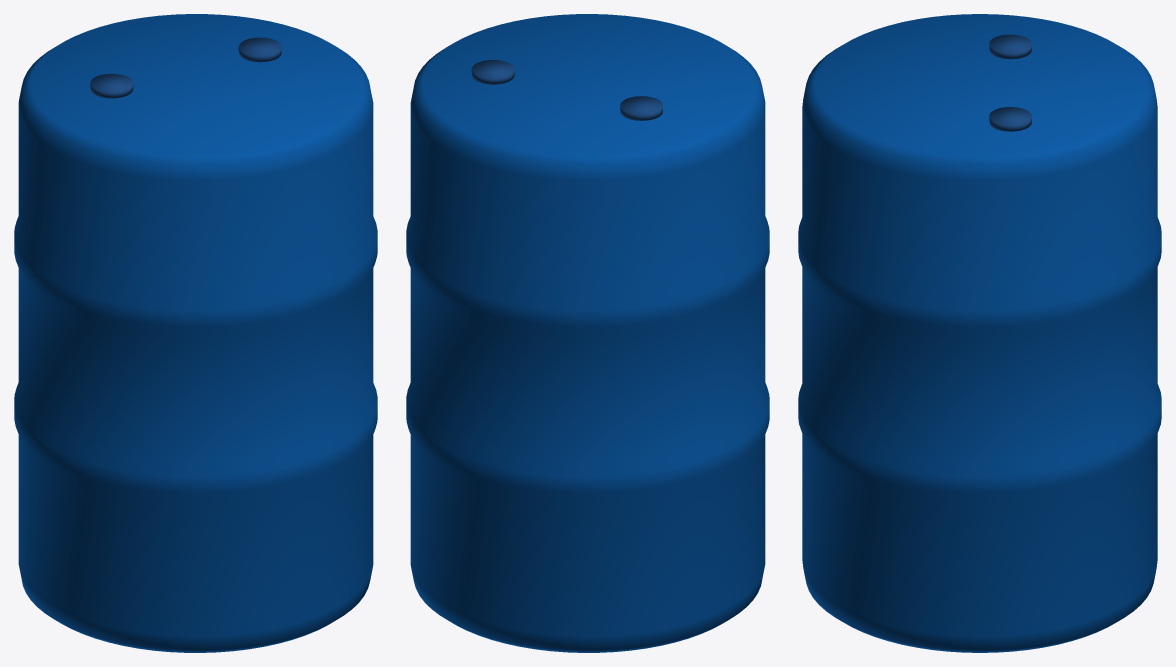
Rendered from obj_barrel.glb.
The picture shows the model from 3 angles, left to right: view 1: azimuth 30°, elevation 25°; view 2: azimuth 150°, elevation 25°; view 3: azimuth 270°, elevation 25°; orthographic projection.
Parts seen in each view (by area): view 1: barrel_body, bung, bung.001; view 2: barrel_body, bung.001, bung; view 3: barrel_body, bung, bung.001.
Boxes of the visible parts, bbox=[...] form: barrel_body: bbox=[14, 14, 377, 652]; bung: bbox=[90, 73, 133, 98]; bung.001: bbox=[238, 37, 281, 62]; barrel_body: bbox=[406, 14, 769, 652]; bung.001: bbox=[471, 60, 514, 84]; bung: bbox=[620, 96, 662, 120]; barrel_body: bbox=[798, 14, 1161, 652]; bung: bbox=[989, 34, 1031, 59]; bung.001: bbox=[989, 107, 1031, 131].
Bounding box in the file's own units: 0.594 × 0.912 × 0.594.
Materials: 2 (1 with a texture image).
